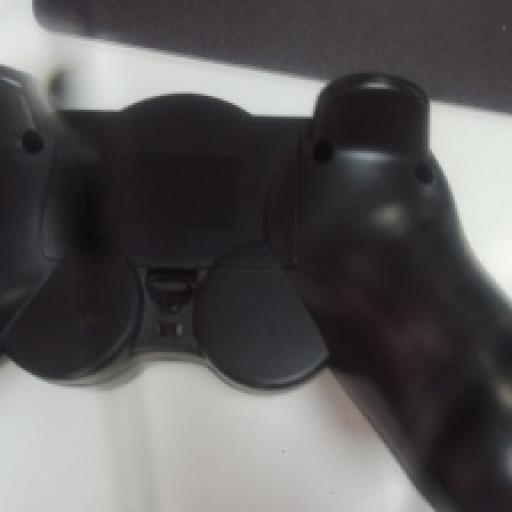game pad: (0, 69, 510, 510)
